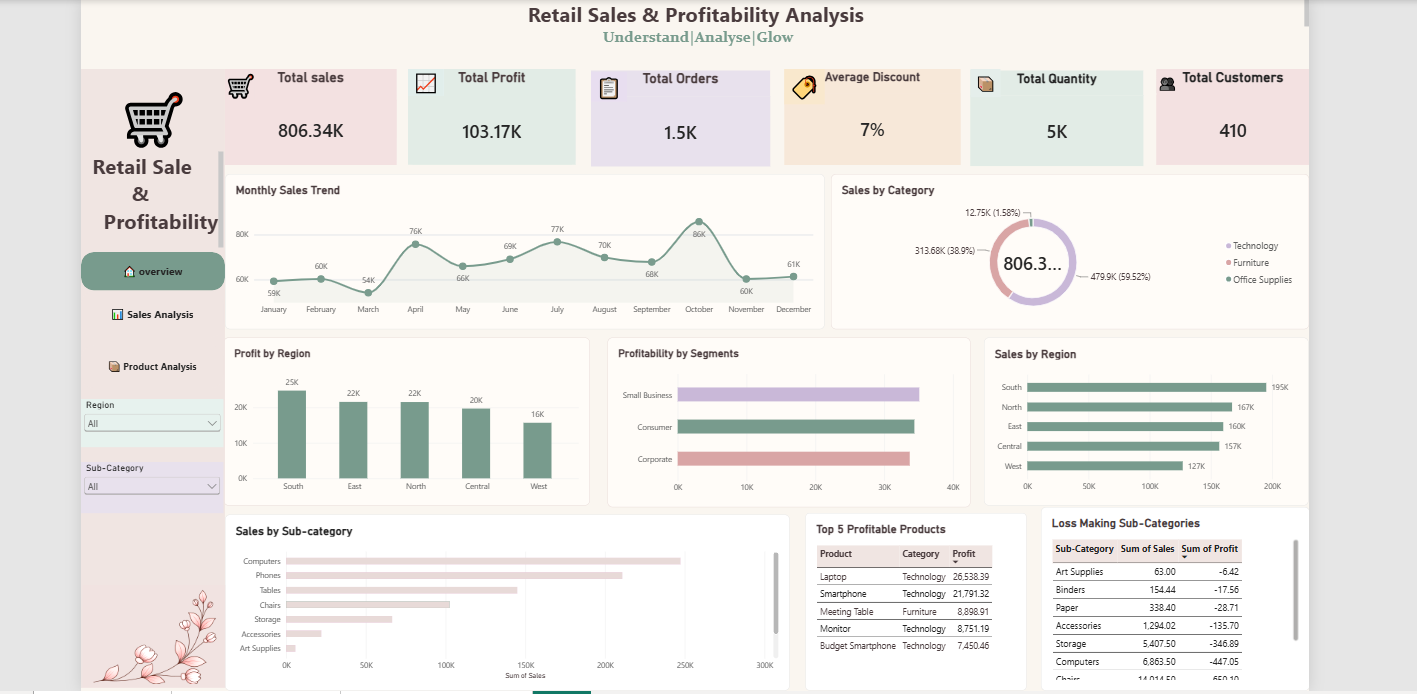

Layout of this report page (visuals, bound fields, positions):
{"tool":"powerbi","page":{"name":"Overview","canvas":[1920,1080],"ordinal":0},"visuals":[{"type":"textbox","box":[9.4,0,1910.8,42.2],"z":0},{"type":"textbox","title":"Understand|Analyse|Glow","box":[9.4,42.2,1910.8,112.5],"z":1000},{"type":"cardVisual","title":"Total sales","fields":{"Data":["Sum(Cleaned_Retail_Sales_PowerBI.Sales)"]},"box":[225.5,108.5,268,150],"z":2000},{"type":"cardVisual","title":"Total Profit","fields":{"Data":["Sum(Cleaned_Retail_Sales_PowerBI.Profit)"]},"box":[510,107.5,262,150],"z":3000},{"type":"cardVisual","title":"Total Orders","fields":{"Data":["Count(Cleaned_Retail_Sales_PowerBI.Order ID)"]},"box":[797.5,110,280,150],"z":4000},{"type":"cardVisual","title":"Average Discount","fields":{"Data":["Avg(Cleaned_Retail_Sales_PowerBI.Discount)"]},"box":[1100,107.5,275,150],"z":5000},{"type":"cardVisual","title":"Total Quantity","fields":{"Data":["Sum(Cleaned_Retail_Sales_PowerBI.Quantity)"]},"box":[1390,110,270,150],"z":6000},{"type":"cardVisual","title":"   Total Customers","fields":{"Data":["Count(Cleaned_Retail_Sales_PowerBI.Customer ID)"]},"box":[1680,107.5,239,150],"z":7000},{"type":"lineChart","title":"Monthly Sales Trend","fields":{"Category":["Cleaned_Retail_Sales_PowerBI.Order Date.Variation.Date Hierarchy.Year","Cleaned_Retail_Sales_PowerBI.Order Date.Variation.Date Hierarchy.Month"],"Y":["Sum(Cleaned_Retail_Sales_PowerBI.Sales)"]},"box":[225,272.5,937.5,242.5],"z":8000},{"type":"donutChart","title":"Sales by Category","fields":{"Category":["Cleaned_Retail_Sales_PowerBI.Category"],"Y":["Sum(Cleaned_Retail_Sales_PowerBI.Sales)"]},"box":[1172.5,272.5,747.5,242.5],"z":9000},{"type":"clusteredBarChart","title":"Sales by Sub-category","fields":{"Category":["Cleaned_Retail_Sales_PowerBI.Sub-Category"],"Y":["Sum(Cleaned_Retail_Sales_PowerBI.Sales)"]},"box":[225,805,882.5,275],"z":10000},{"type":"clusteredColumnChart","title":"Profit by Region","fields":{"Category":["Cleaned_Retail_Sales_PowerBI.Region"],"Y":["Sum(Cleaned_Retail_Sales_PowerBI.Profit)"]},"box":[222.5,527.5,572.5,262.5],"z":11000},{"type":"clusteredBarChart","title":"Profitability by Segments","fields":{"Category":["Cleaned_Retail_Sales_PowerBI.Segment"],"Y":["Sum(Cleaned_Retail_Sales_PowerBI.Profit)"]},"box":[822.5,527.5,567.5,265],"z":12000},{"type":"tableEx","title":"Top 5 Profitable Products","fields":{"Values":["Cleaned_Retail_Sales_PowerBI.Product","Cleaned_Retail_Sales_PowerBI.Category","Sum(Cleaned_Retail_Sales_PowerBI.Profit)"]},"box":[1132.5,802.5,345,277.5],"z":13000},{"type":"clusteredBarChart","title":"Sales by Region","fields":{"Category":["Cleaned_Retail_Sales_PowerBI.Region"],"Y":["Sum(Cleaned_Retail_Sales_PowerBI.Sales)"]},"box":[1412.5,527.5,507.5,262.5],"z":14000},{"type":"shape","box":[225,107.5,46,47],"z":15000},{"type":"shape","box":[510,107.5,56,42],"z":16000},{"type":"shape","box":[797.5,112.5,56,46],"z":17000},{"type":"shape","box":[1100,107.5,62.5,55],"z":18000},{"type":"shape","box":[1390,107.5,47,44],"z":19000},{"type":"shape","box":[1680,110,34,35],"z":20000},{"type":"tableEx","title":"Loss Making Sub-Categories","fields":{"Values":["Cleaned_Retail_Sales_PowerBI.Sub-Category","Sum(Cleaned_Retail_Sales_PowerBI.Sales)","Sum(Cleaned_Retail_Sales_PowerBI.Profit)"]},"box":[1500,792.5,420,287],"z":21000},{"type":"shape","box":[0,107.5,225,967.5],"z":22000},{"type":"shape","box":[32.5,107.5,162.5,147.5],"z":23000},{"type":"textbox","box":[0,237.5,222.5,157.5],"z":24000},{"type":"actionButton","box":[0,395,225,60],"z":25000},{"type":"actionButton","box":[0,455,222.5,72.5],"z":27000},{"type":"actionButton","box":[0,540,222.5,67.5],"z":28000},{"type":"image","box":[2.6,915.4,223.1,160.3],"z":29000},{"type":"slicer","fields":{"Values":["Cleaned_Retail_Sales_PowerBI.Region"]},"box":[0,623.6,222.7,75],"z":30000},{"type":"slicer","fields":{"Values":["Cleaned_Retail_Sales_PowerBI.Sub-Category"]},"box":[0,722.1,222.5,80],"z":31000}]}

Visuals, with their boxes on the page's 1920x1080 design canvas (x1, y1, x2, y2). These are canvas units, not pixel positions in the 1417x694 screenshot, which may show the page scaled, cropped or inside an application window:
textbox: 9:0:1920:42
"Understand|Analyse|Glow" textbox: 9:42:1920:155
"Total sales" cardVisual: 226:108:494:258
"Total Profit" cardVisual: 510:108:772:258
"Total Orders" cardVisual: 798:110:1078:260
"Average Discount" cardVisual: 1100:108:1375:258
"Total Quantity" cardVisual: 1390:110:1660:260
"   Total Customers" cardVisual: 1680:108:1919:258
"Monthly Sales Trend" lineChart: 225:272:1162:515
"Sales by Category" donutChart: 1172:272:1920:515
"Sales by Sub-category" clusteredBarChart: 225:805:1108:1080
"Profit by Region" clusteredColumnChart: 222:528:795:790
"Profitability by Segments" clusteredBarChart: 822:528:1390:792
"Top 5 Profitable Products" tableEx: 1132:802:1478:1080
"Sales by Region" clusteredBarChart: 1412:528:1920:790
shape: 225:108:271:154
shape: 510:108:566:150
shape: 798:112:854:158
shape: 1100:108:1162:162
shape: 1390:108:1437:152
shape: 1680:110:1714:145
"Loss Making Sub-Categories" tableEx: 1500:792:1920:1080
shape: 0:108:225:1075
shape: 32:108:195:255
textbox: 0:238:222:395
actionButton: 0:395:225:455
actionButton: 0:455:222:528
actionButton: 0:540:222:608
image: 3:915:226:1076
slicer - Cleaned_Retail_Sales_PowerBI.Region: 0:624:223:699
slicer - Cleaned_Retail_Sales_PowerBI.Sub-Category: 0:722:222:802
